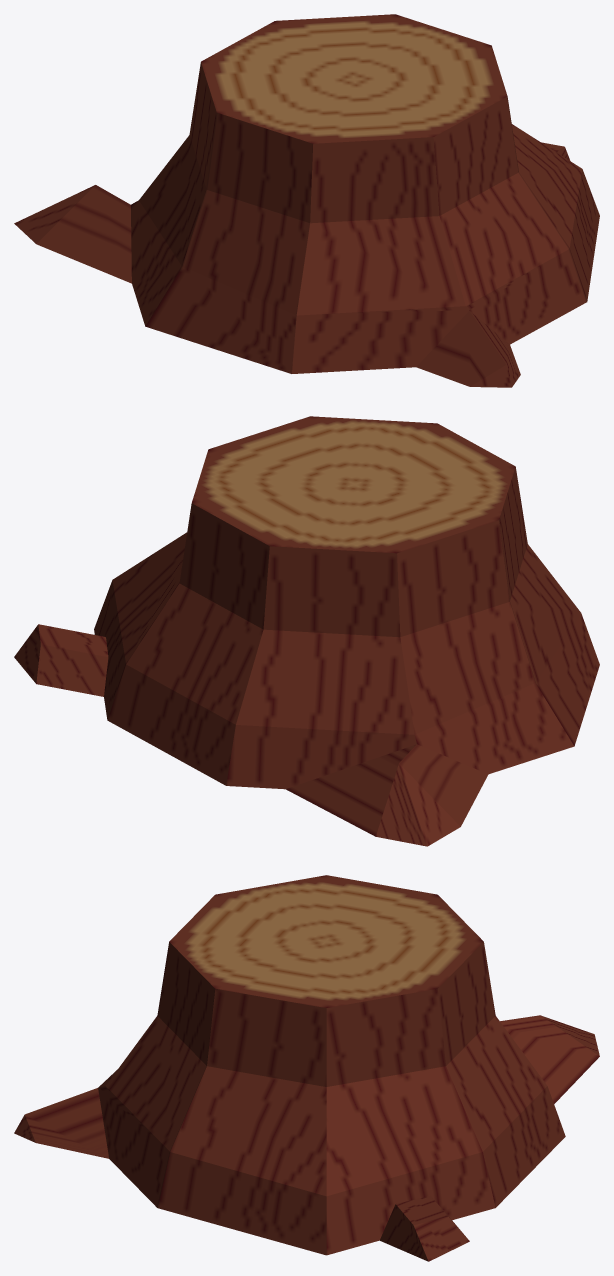
File: Stump.glb
The picture shows the model from 3 angles, top to bottom: view 1: azimuth 30°, elevation 25°; view 2: azimuth 150°, elevation 25°; view 3: azimuth 270°, elevation 25°; orthographic projection. The views are drawn at different scales.
Visible parts, largest first — view 1: Sphere; view 2: Sphere; view 3: Sphere.
Part boxes in pixels (<box>): Sphere: <box>14,14,599,387</box>; Sphere: <box>14,416,599,846</box>; Sphere: <box>14,875,599,1261</box>.
Bounding box in the file's own units: 0.9574 × 0.3751 × 1.02.
Materials: 1 (1 with a texture image).
